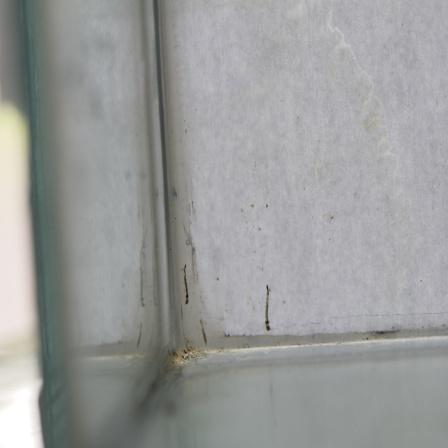Jentik-Nyamuk: (261, 282, 276, 334), (179, 262, 192, 307)
